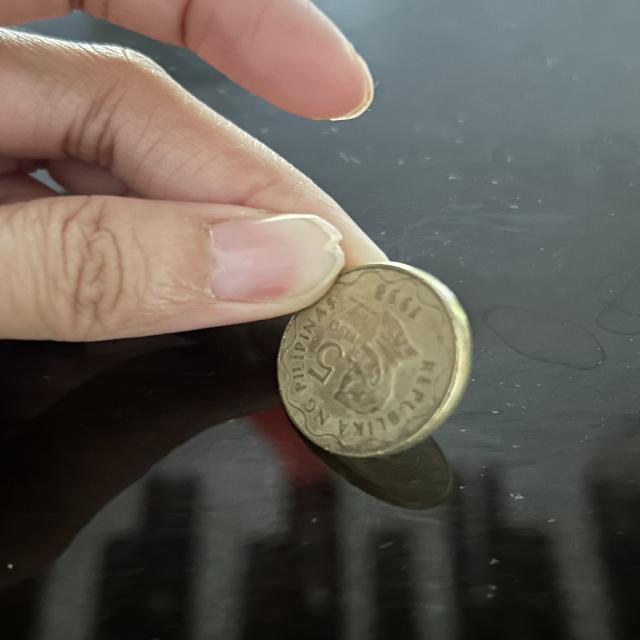5_Old_Front: (286, 280, 449, 428)
